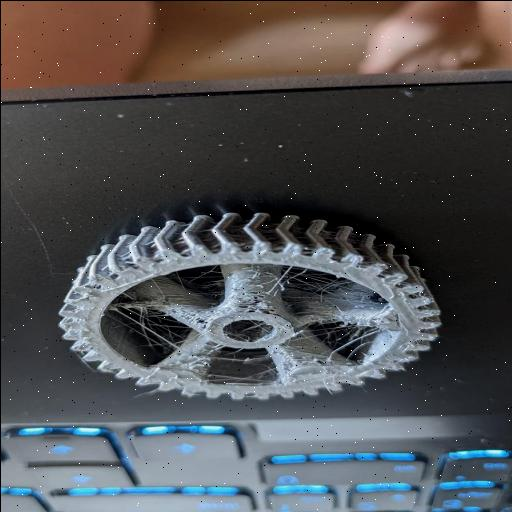stringing: (86, 273, 438, 369)
